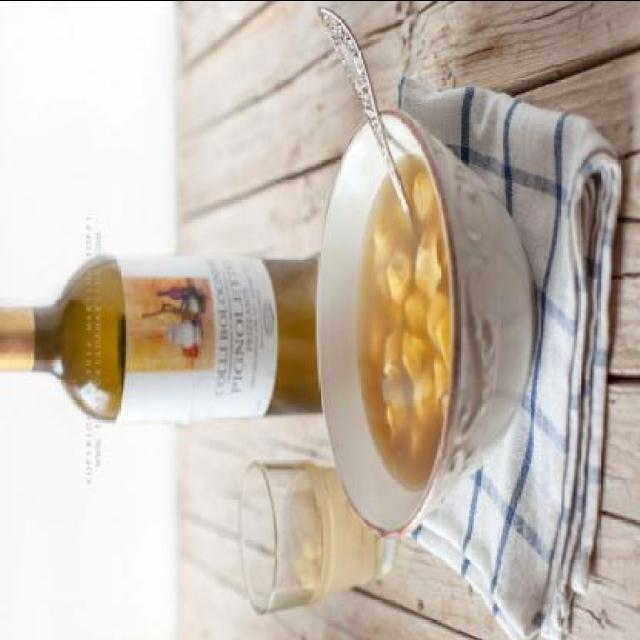Tortellini in broth: (317, 84, 531, 508)
